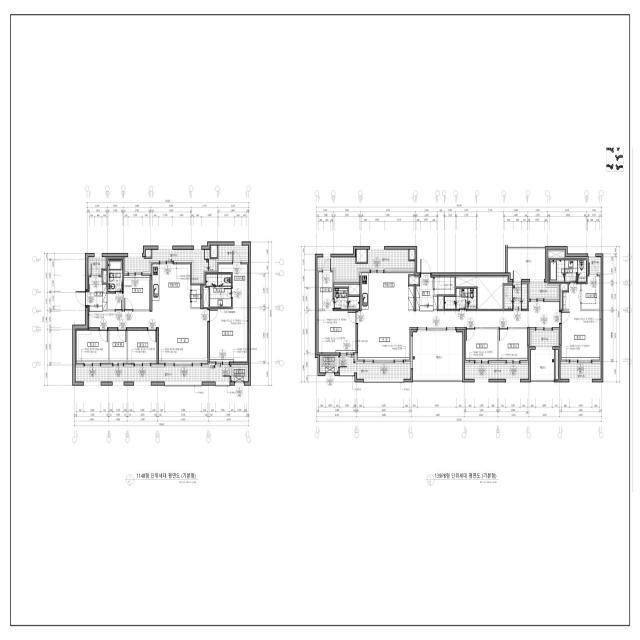space_balconi: (124, 249, 216, 285), (317, 250, 415, 280), (76, 365, 230, 382), (413, 332, 462, 379), (340, 356, 411, 379), (508, 249, 545, 279), (465, 364, 529, 379), (531, 350, 554, 379), (560, 364, 601, 379), (504, 284, 527, 309), (218, 245, 248, 262), (530, 282, 558, 298), (532, 331, 557, 346), (88, 257, 107, 275), (589, 257, 601, 272)
space_bedroom: (562, 284, 600, 360), (210, 309, 248, 362), (319, 311, 356, 352), (76, 331, 108, 363), (466, 329, 497, 360), (128, 331, 157, 363), (124, 276, 150, 310), (499, 329, 527, 360)
space_dressroom: (217, 264, 248, 309), (582, 276, 600, 309), (319, 272, 333, 311)
space_front: (416, 274, 437, 311), (89, 277, 107, 311)
space_kitchen: (361, 273, 414, 311), (152, 264, 190, 310)
space_living_room: (358, 302, 559, 360), (89, 309, 208, 363)
space_other: (456, 277, 507, 309), (109, 331, 127, 363), (434, 277, 455, 295), (334, 283, 359, 295), (108, 293, 123, 310), (192, 285, 200, 307), (561, 284, 568, 309), (203, 285, 209, 307), (357, 250, 367, 262), (548, 251, 564, 258), (555, 350, 558, 380), (409, 276, 419, 284), (211, 246, 217, 257), (438, 296, 443, 309), (103, 271, 107, 283), (410, 250, 415, 259), (146, 250, 151, 257)
space_outdoor_room: (320, 355, 338, 373), (231, 365, 248, 382)
space_toilet: (206, 274, 231, 307), (550, 260, 586, 282), (445, 289, 476, 309), (334, 289, 359, 309), (108, 260, 122, 291)
